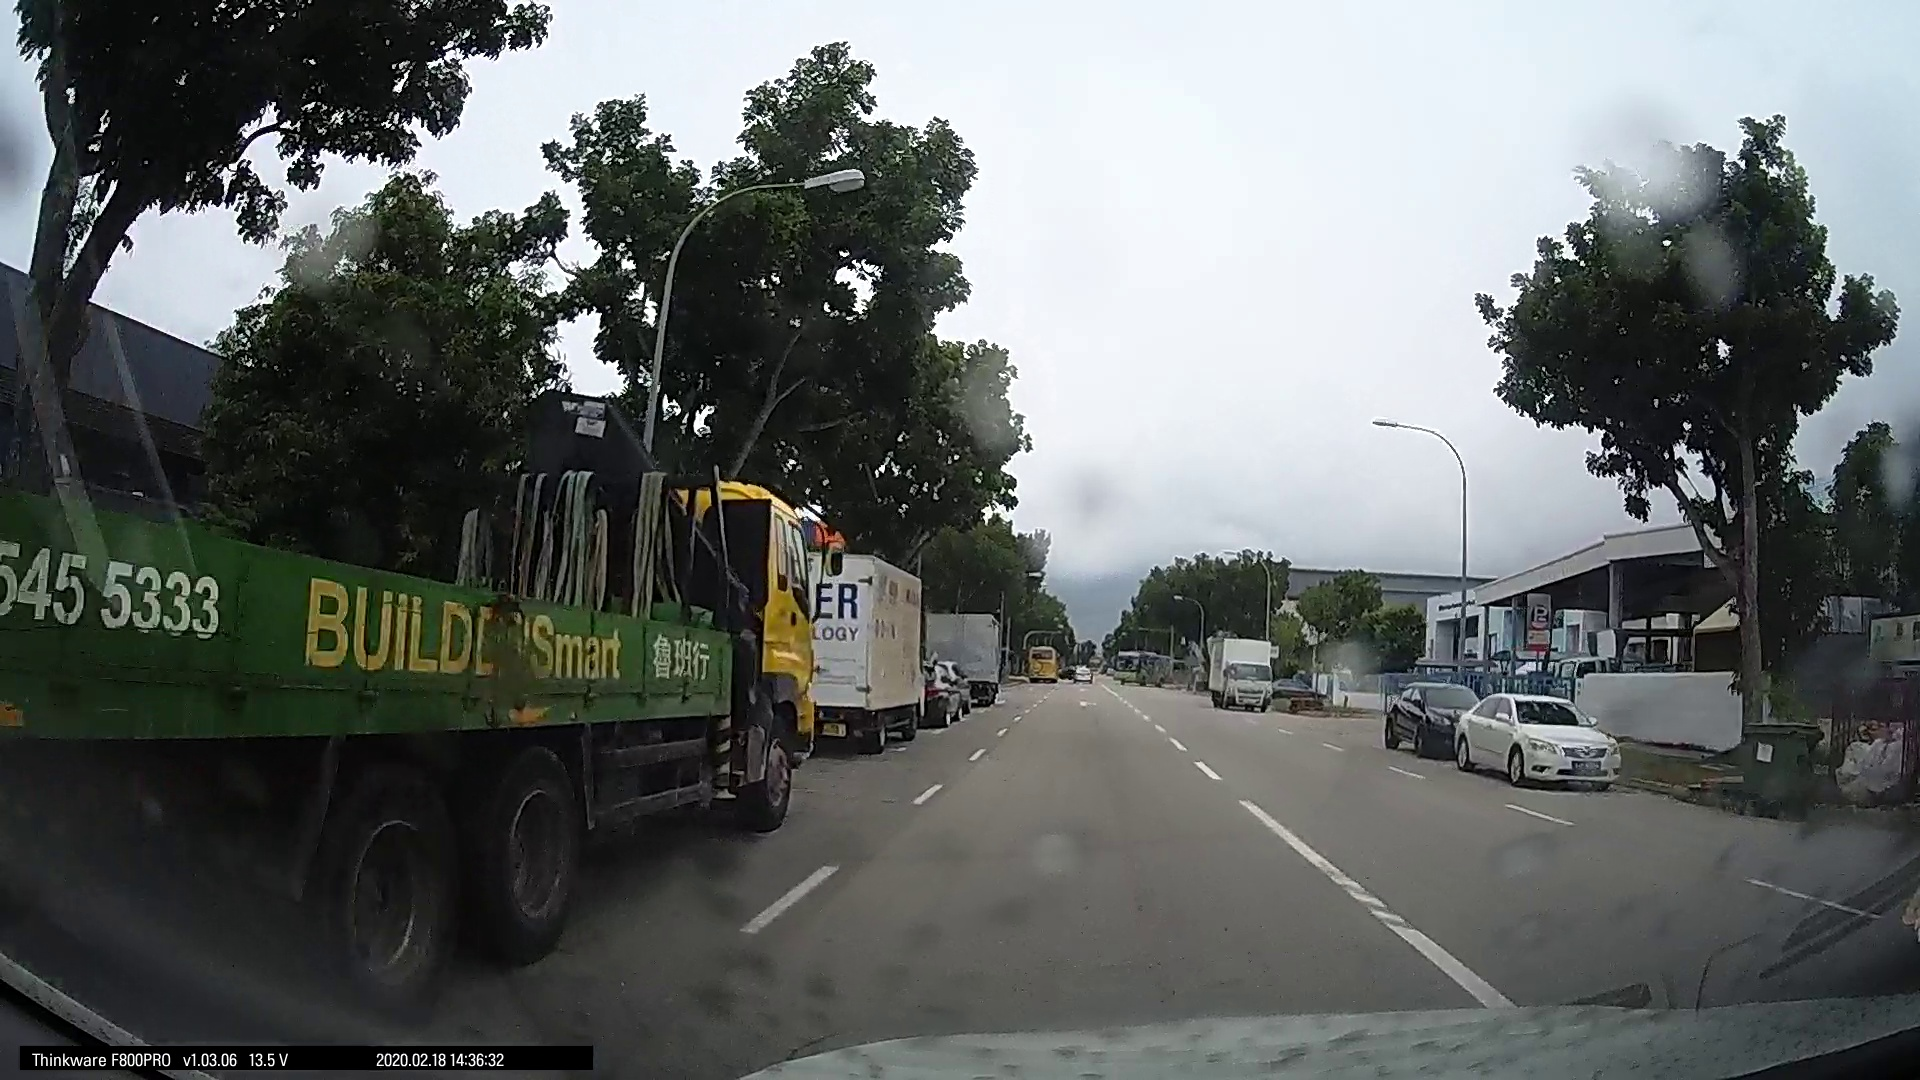Light Vehicle: (943, 694, 1718, 998), (644, 671, 988, 836), (324, 609, 484, 731), (216, 613, 320, 688), (113, 583, 186, 659)
Motorcycle: (94, 592, 152, 705)
